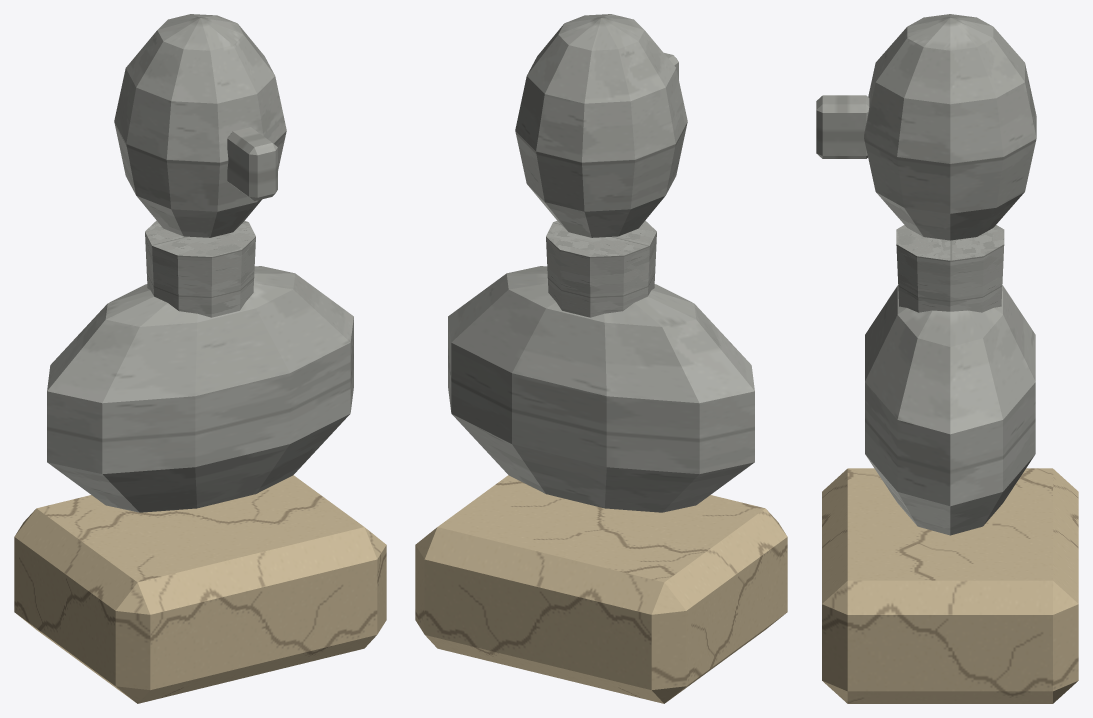
File: MD_39_MarbleBust.fbx
3 views of the same model, side by side, from view 1: azimuth 30°, elevation 25°; view 2: azimuth 150°, elevation 25°; view 3: azimuth 270°, elevation 25° (orthographic).
Visible parts, largest first — view 1: MD_39_MarbleBust_stone_plinth, MD_39_MarbleBust_shoulders, MD_39_MarbleBust_sculpted_head, MD_39_MarbleBust_neck, MD_39_MarbleBust_nose; view 2: MD_39_MarbleBust_stone_plinth, MD_39_MarbleBust_shoulders, MD_39_MarbleBust_sculpted_head, MD_39_MarbleBust_neck; view 3: MD_39_MarbleBust_stone_plinth, MD_39_MarbleBust_shoulders, MD_39_MarbleBust_sculpted_head, MD_39_MarbleBust_neck, MD_39_MarbleBust_nose.
Part boxes in pixels (x1,y1,x2,y2): MD_39_MarbleBust_stone_plinth: (14, 475, 386, 703); MD_39_MarbleBust_shoulders: (47, 266, 353, 512); MD_39_MarbleBust_sculpted_head: (114, 14, 286, 237); MD_39_MarbleBust_neck: (145, 220, 255, 317); MD_39_MarbleBust_nose: (227, 127, 277, 200); MD_39_MarbleBust_stone_plinth: (415, 475, 787, 703); MD_39_MarbleBust_shoulders: (448, 266, 754, 512); MD_39_MarbleBust_sculpted_head: (515, 14, 687, 237); MD_39_MarbleBust_neck: (546, 220, 656, 317); MD_39_MarbleBust_stone_plinth: (822, 468, 1078, 703); MD_39_MarbleBust_shoulders: (865, 285, 1035, 535); MD_39_MarbleBust_sculpted_head: (864, 14, 1036, 240); MD_39_MarbleBust_neck: (896, 225, 1004, 312); MD_39_MarbleBust_nose: (816, 95, 869, 158).
Size of the model in its own units: 0.4755 by 0.92 by 0.3475.
2 materials, 2 textured.
